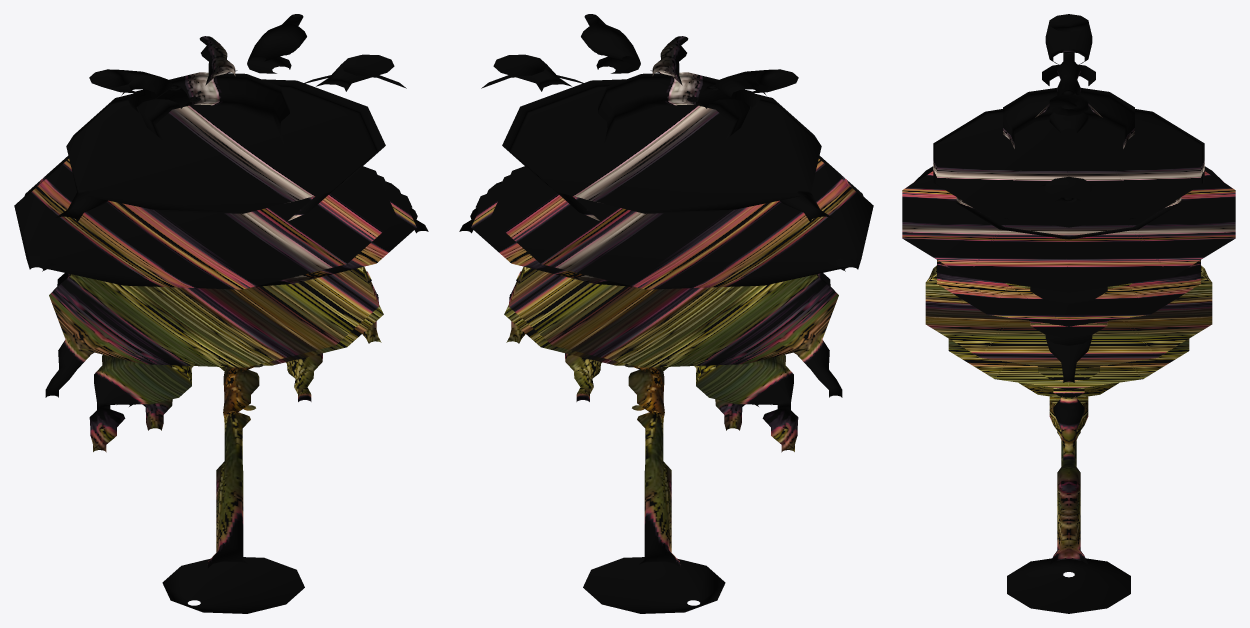
The model's file is palm.glb.
3 renders of one model, left to right at view 1: azimuth 30°, elevation 25°; view 2: azimuth 150°, elevation 25°; view 3: azimuth 270°, elevation 25°, orthographic. The views are drawn at different scales.
Parts seen in each view (by area): view 1: solid; view 2: solid; view 3: solid.
Boxes of the visible parts, x1,y1,x2,y2 form: solid: (14,14,428,613); solid: (459,14,873,613); solid: (902,14,1235,613).
Bounding box in the file's own units: 0.7463 × 1 × 0.5713.
Materials: 1 (1 with a texture image).
